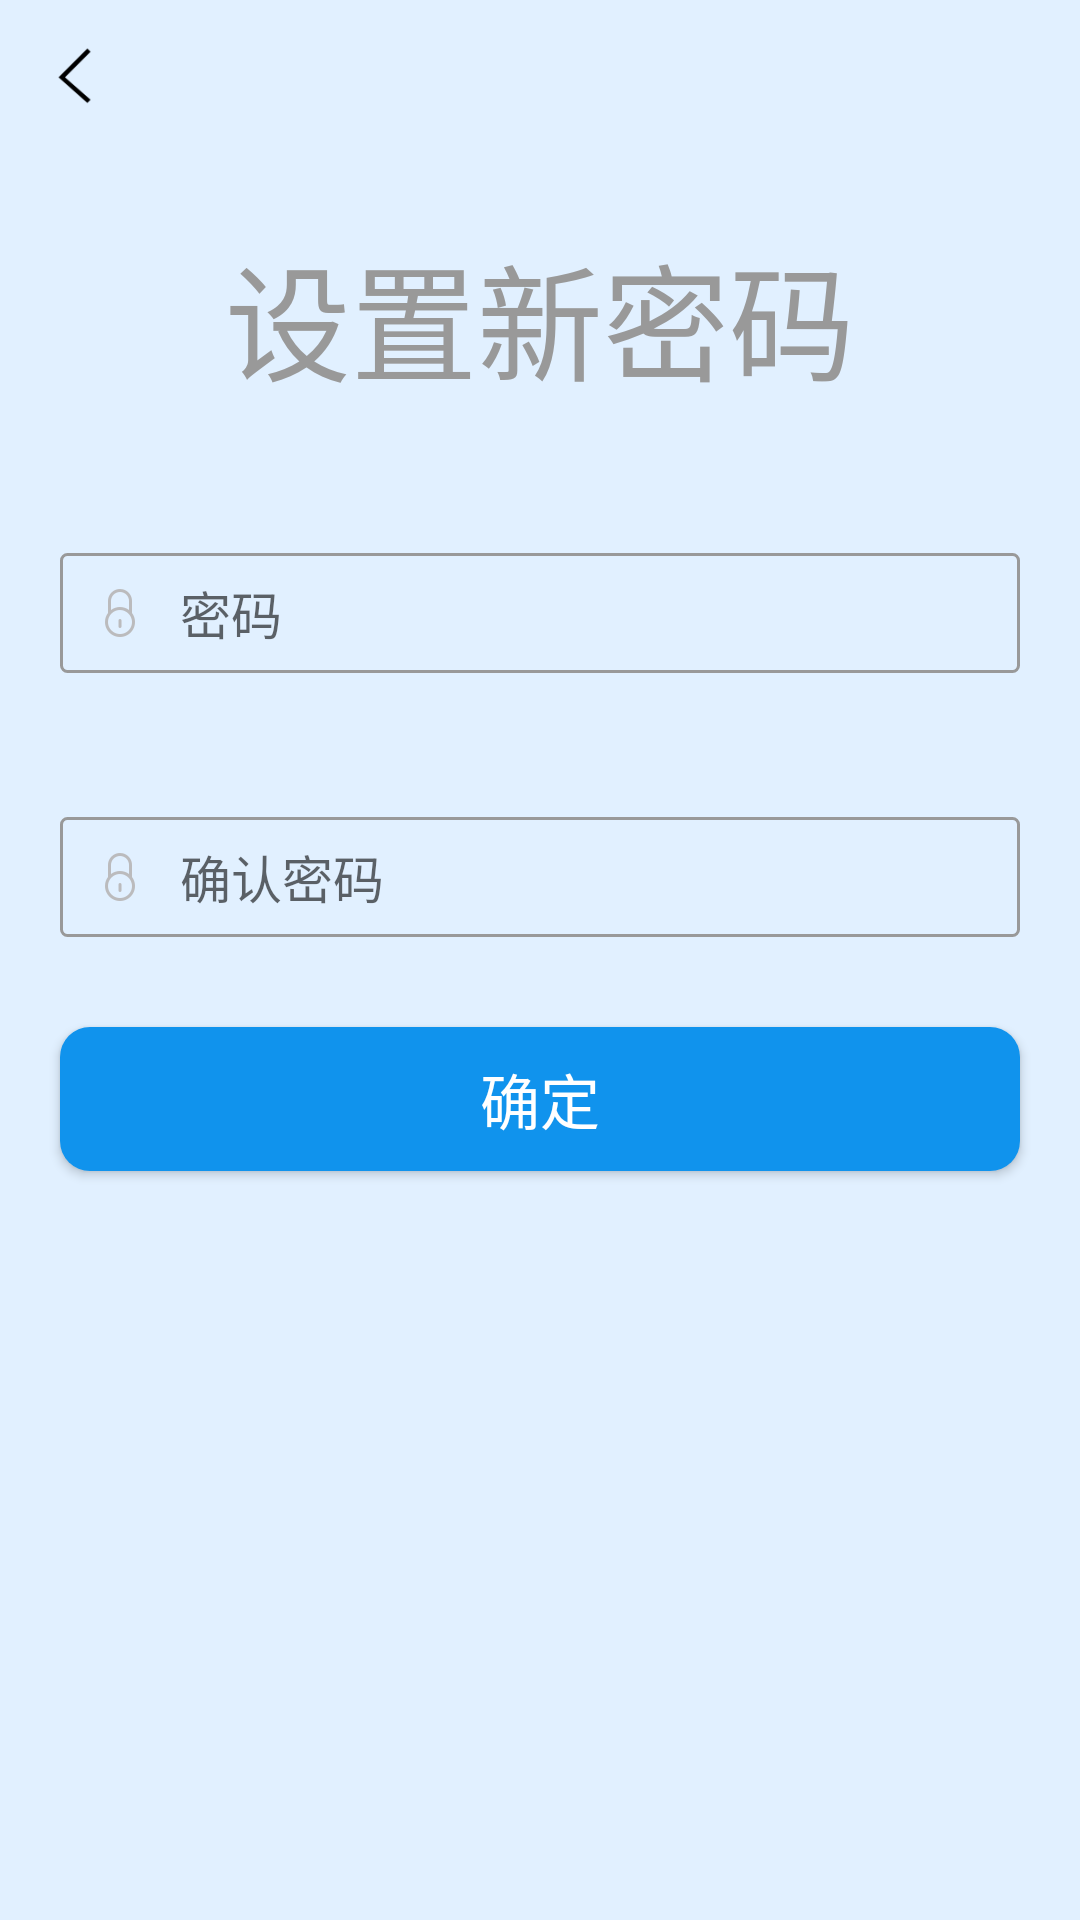

Icon bounding boxes for this 1080×1920 phone screenshot, format (x1, y1, x2, y2):
fanhui: (58, 48, 91, 103)
